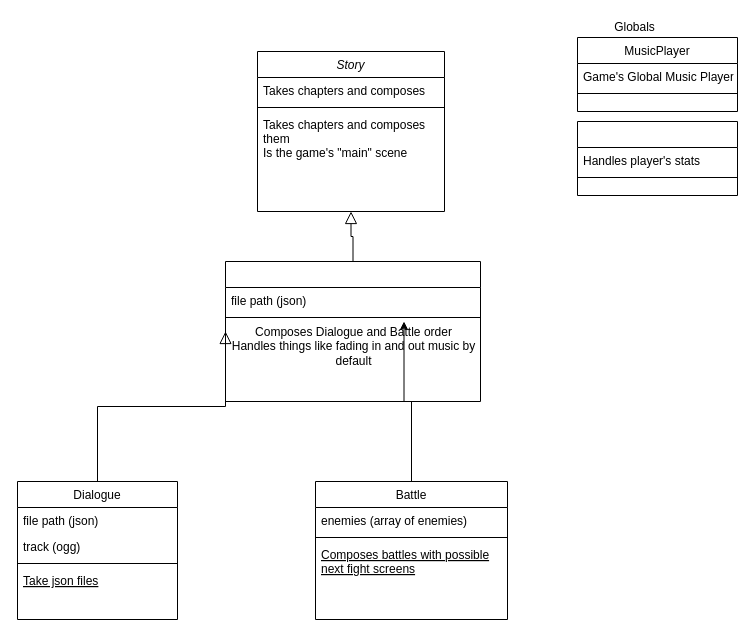
This 755x637 diagram has some shape labels left out. Here are the shapes that lost their labels. From the top down, the box of each, then its label:
(576, 120, 738, 196): PlayerStats
(224, 260, 480, 402): Chapter
